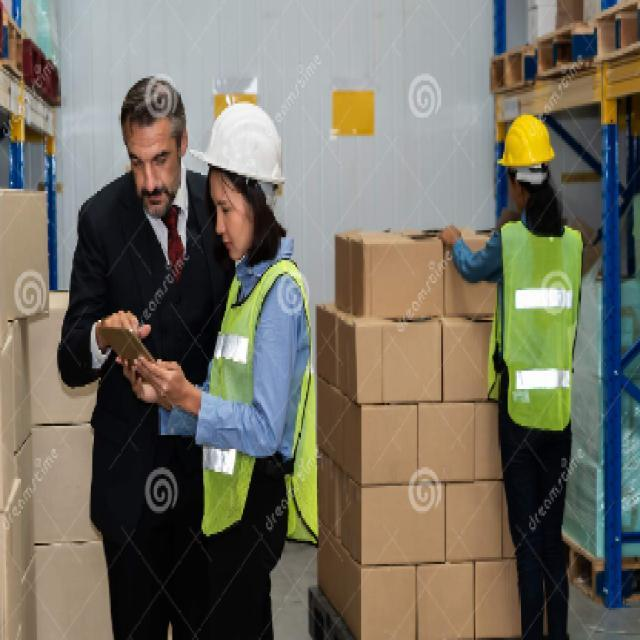helmet: (189, 98, 289, 252), (492, 106, 561, 221)
vest: (197, 252, 324, 553), (488, 219, 586, 436)
